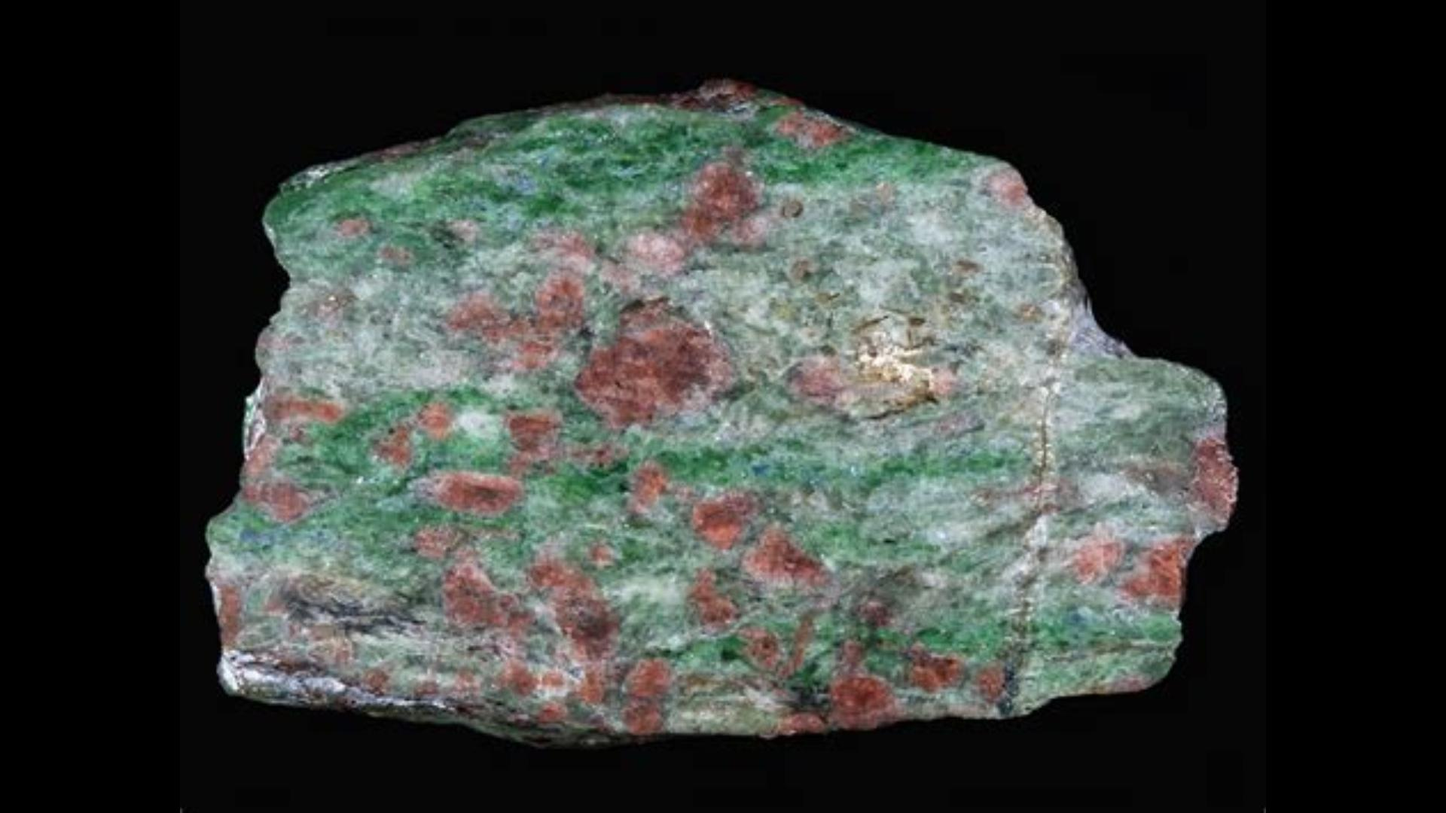rock: (210, 82, 1229, 740)
